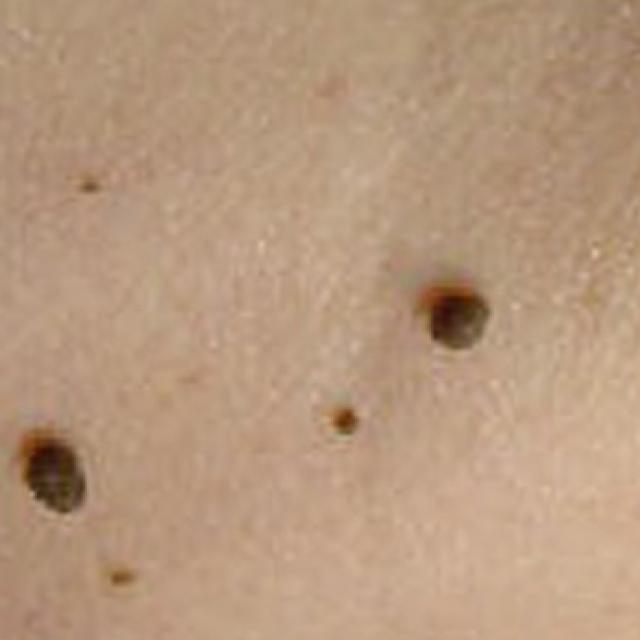wart: (19, 434, 94, 520), (420, 285, 494, 351)
